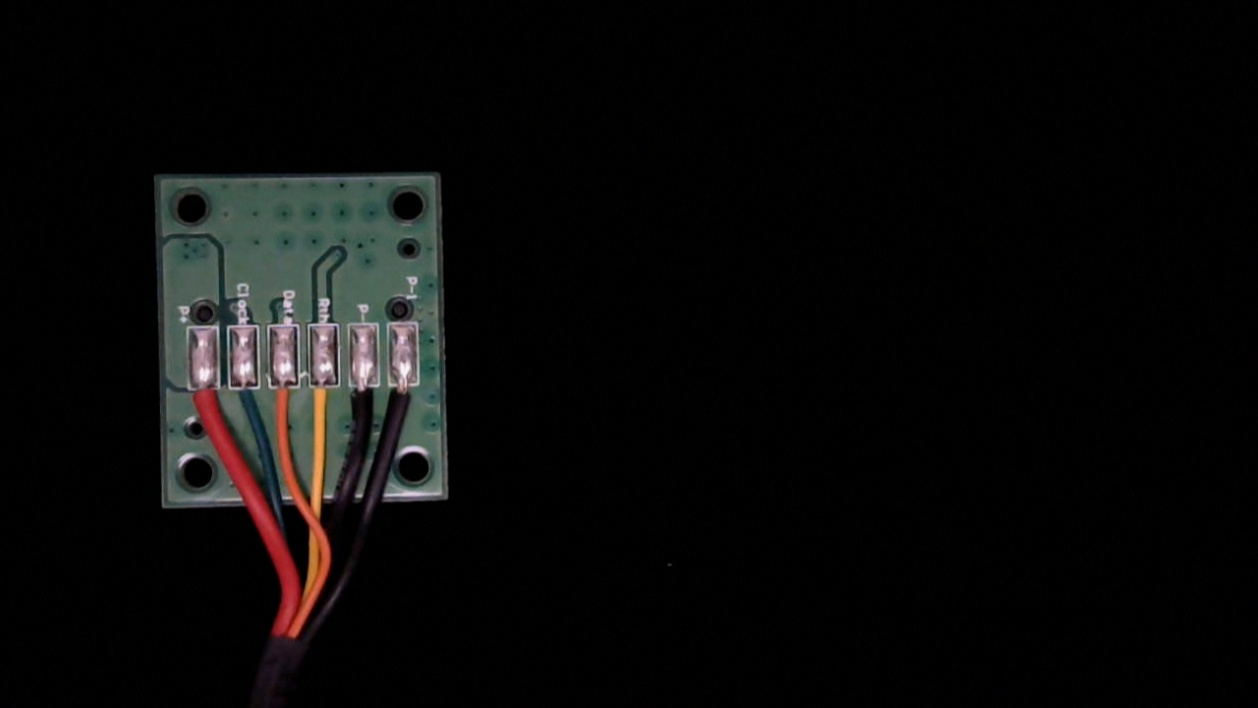Black: (349, 372, 379, 436)
Black1: (390, 371, 420, 430)
Green: (229, 373, 261, 434)
Orange: (268, 374, 300, 439)
Red: (188, 376, 224, 433)
Yellow: (307, 373, 340, 434)
